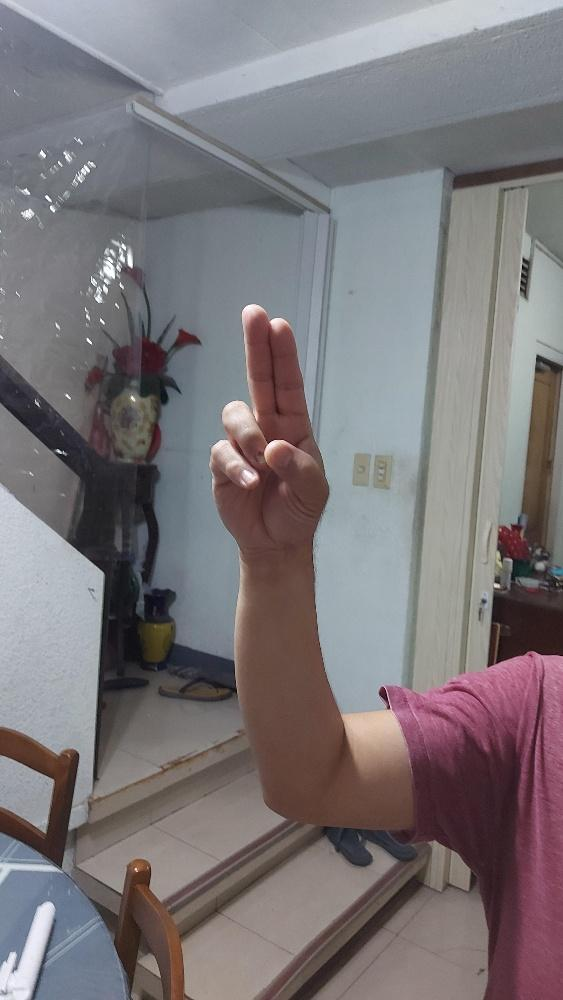u: (209, 301, 329, 552)
